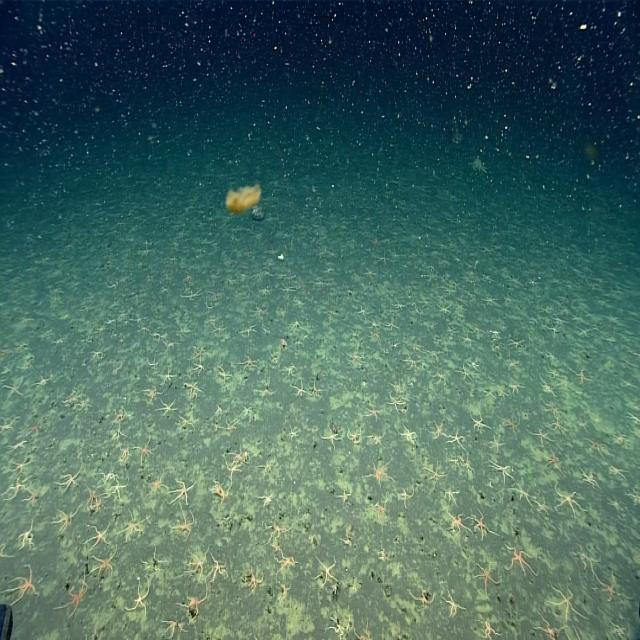brittle-stars: (59, 574, 91, 634), (9, 569, 37, 609), (17, 508, 38, 560), (4, 464, 32, 502), (504, 540, 532, 578), (554, 579, 580, 619), (556, 488, 586, 521), (131, 575, 157, 613), (532, 609, 562, 640), (179, 585, 206, 619), (474, 558, 498, 595), (469, 510, 498, 540), (409, 581, 437, 612), (157, 609, 184, 640), (85, 487, 104, 531), (318, 552, 339, 590), (117, 512, 149, 536), (244, 570, 268, 601), (265, 516, 289, 547), (92, 551, 115, 583), (441, 593, 463, 623), (88, 523, 113, 549), (116, 446, 140, 472), (177, 478, 199, 506), (598, 583, 632, 601), (530, 426, 553, 452), (59, 504, 76, 538), (6, 434, 26, 462), (34, 370, 57, 394), (572, 364, 594, 389), (210, 550, 226, 584), (210, 476, 229, 504), (364, 468, 392, 487), (152, 464, 167, 499), (446, 512, 466, 538), (2, 412, 18, 444), (161, 393, 178, 423), (273, 552, 298, 572), (183, 377, 203, 402), (146, 546, 165, 572), (502, 411, 523, 434), (63, 468, 79, 498), (139, 443, 160, 465), (578, 468, 600, 489), (574, 546, 596, 567), (424, 465, 444, 488), (469, 407, 488, 431), (186, 557, 204, 582), (262, 450, 278, 478), (370, 503, 387, 529), (492, 462, 512, 484), (10, 370, 22, 406), (98, 463, 116, 487), (322, 424, 341, 446), (178, 516, 194, 542), (481, 613, 497, 639), (178, 410, 196, 433), (586, 438, 609, 456), (226, 456, 243, 480), (113, 423, 130, 447), (551, 416, 570, 437), (214, 365, 232, 387), (275, 580, 292, 603), (113, 478, 129, 502), (144, 381, 158, 408), (537, 377, 554, 399), (386, 398, 405, 417), (432, 421, 447, 445), (401, 424, 417, 446), (448, 428, 464, 449), (334, 489, 352, 507), (518, 481, 530, 508), (117, 403, 131, 426), (160, 368, 174, 391), (92, 347, 108, 367), (331, 619, 347, 639), (443, 482, 455, 508), (281, 362, 299, 379), (260, 377, 277, 395), (307, 380, 322, 400), (260, 489, 274, 510), (294, 381, 310, 399), (398, 491, 412, 511), (408, 338, 423, 356), (31, 420, 42, 444), (227, 418, 240, 438), (288, 428, 304, 444), (176, 323, 191, 340), (609, 625, 627, 639), (356, 303, 368, 324), (368, 433, 384, 448), (548, 452, 560, 472), (347, 430, 361, 447), (460, 460, 473, 478), (409, 354, 421, 373), (237, 447, 250, 464), (537, 495, 548, 515), (244, 353, 256, 371), (192, 345, 204, 363), (242, 326, 260, 337), (147, 357, 160, 372), (365, 405, 378, 420), (429, 349, 444, 362), (608, 468, 624, 480), (545, 350, 557, 366), (451, 455, 461, 473), (437, 371, 446, 391), (463, 364, 472, 384), (491, 330, 506, 342), (511, 352, 520, 372), (196, 360, 206, 377), (352, 351, 365, 364), (269, 351, 281, 365), (466, 326, 473, 350), (368, 332, 379, 347), (489, 440, 502, 452), (614, 434, 626, 447), (514, 379, 526, 391), (514, 333, 524, 347), (499, 388, 508, 401), (370, 319, 379, 331), (471, 359, 479, 370), (403, 380, 403, 382)
